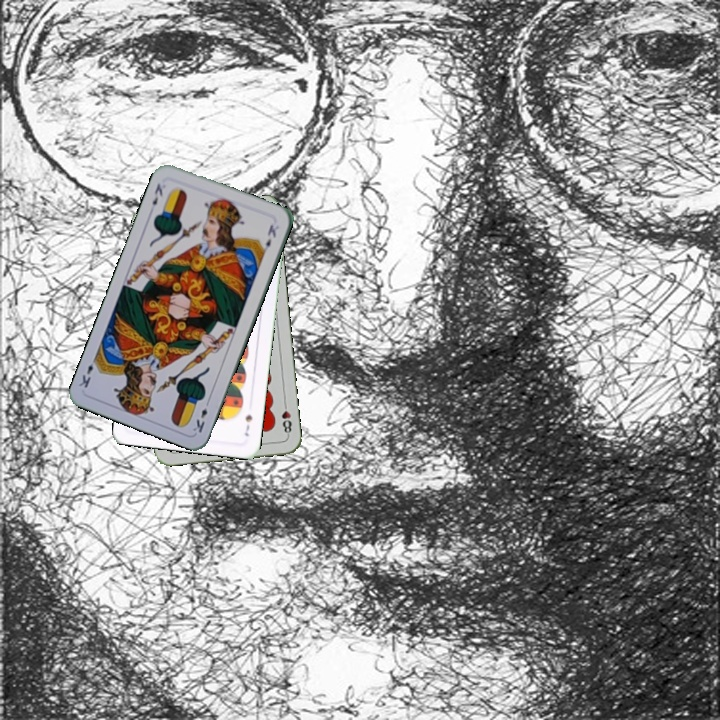EK: (189, 396, 213, 435), (148, 179, 165, 208)
H8: (278, 398, 294, 438)
S7: (241, 411, 255, 439)
